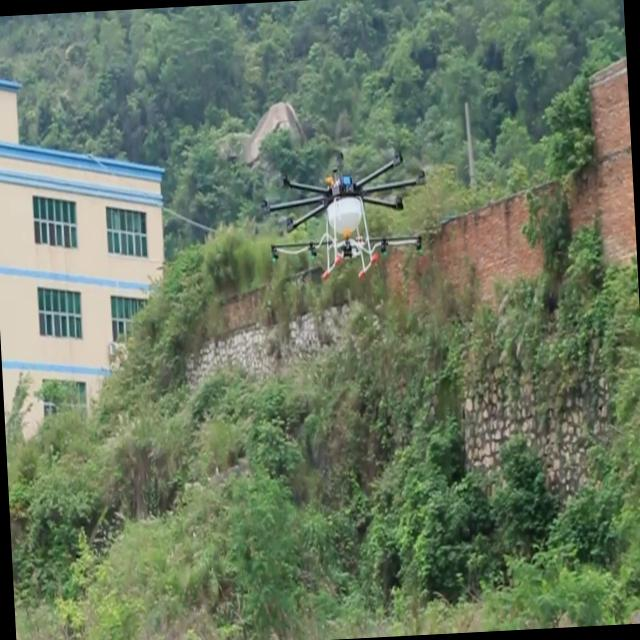drone: (256, 142, 432, 284)
